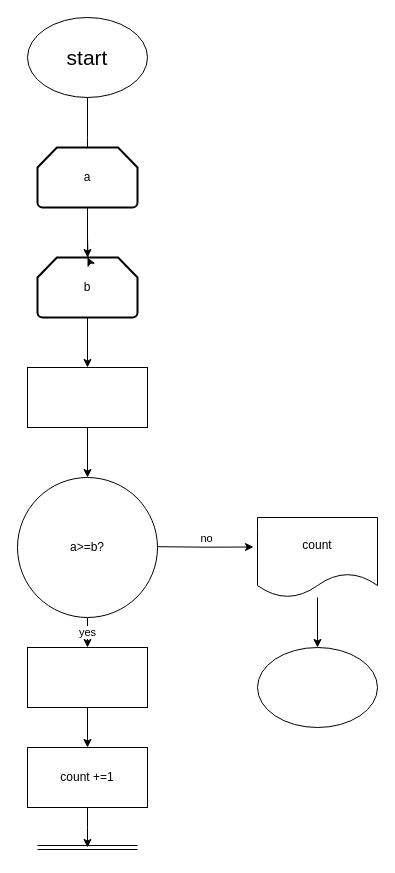
Some shapes in this 395 by 873 pixel diagram are drawn without their labels. Each missing label, with the centre of its shape:
a-=b: the point at 87,677
count = 0: the point at 87,397
stop: the point at 317,687
